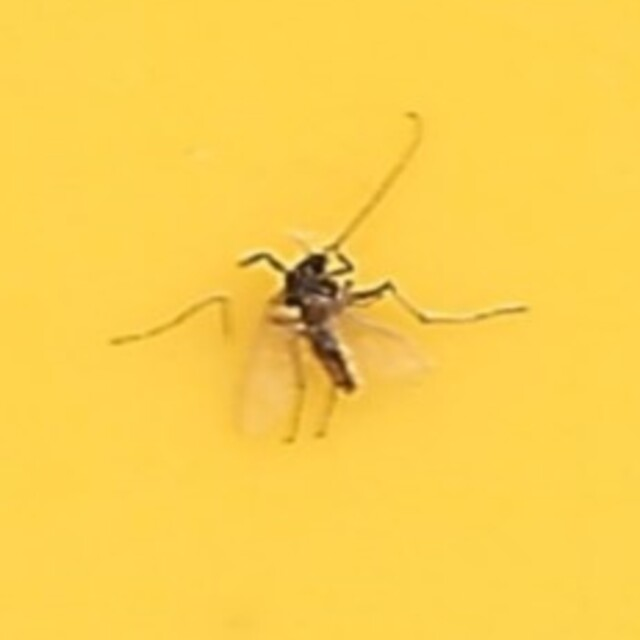Nematocera: (277, 239, 363, 401)
